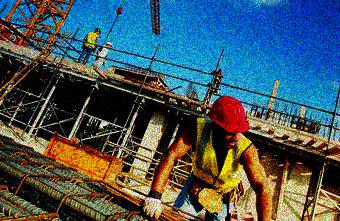helmet: (207, 95, 251, 150), (105, 40, 113, 49), (93, 27, 101, 35)
